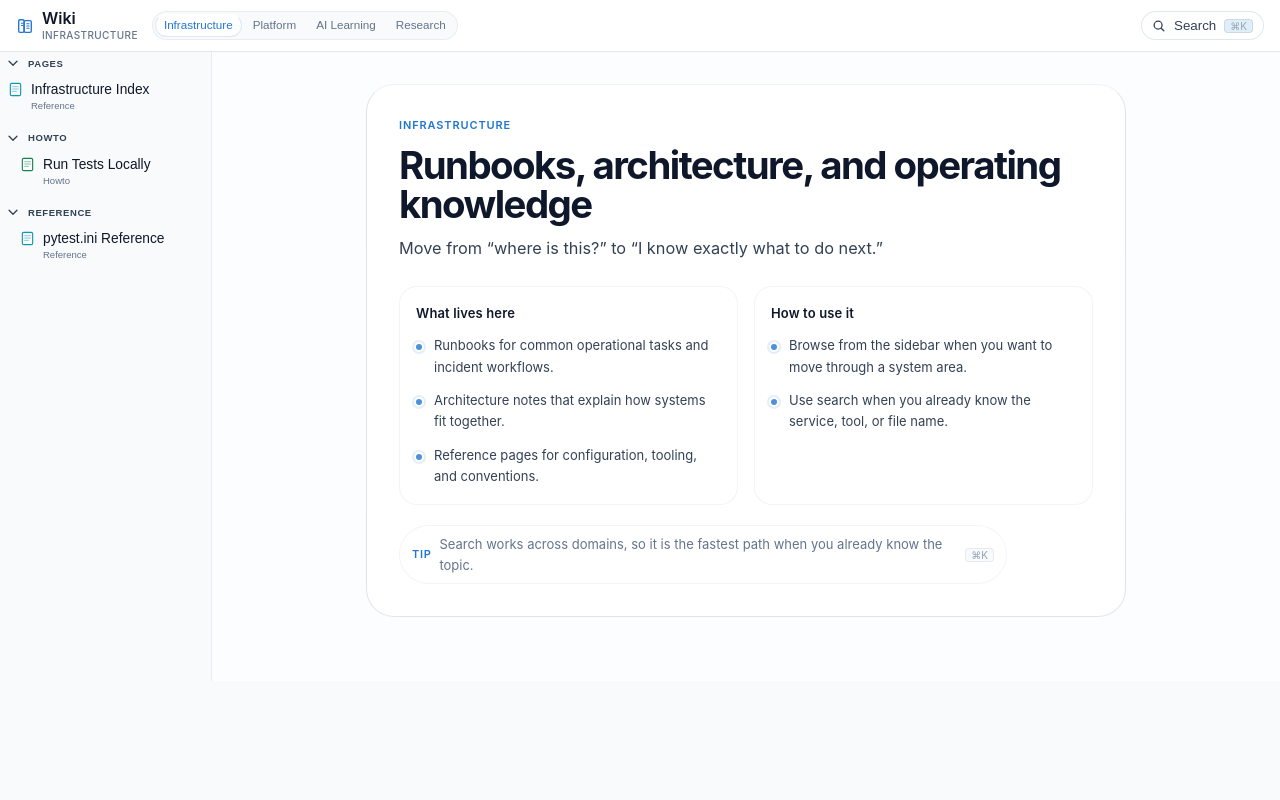
Test: WikiPage › shows explicit search scopes and filters results by the selected domain
The width and height of the screenshot is (1280, 800).
Click the button with aria-label "open wiki search" at (1202, 26), box [1141, 11, 1264, 40]
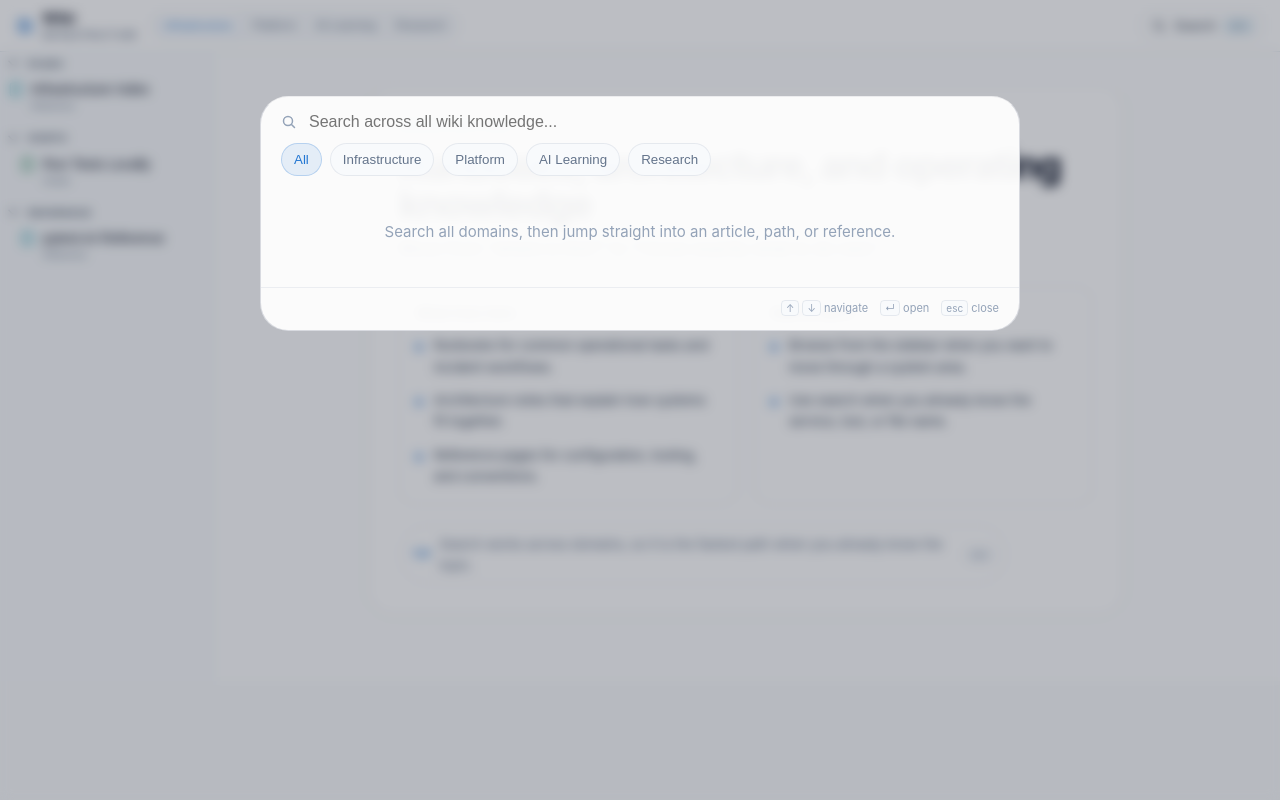
Type "attention" into the field named "search query" at (654, 122), box [309, 113, 999, 131]
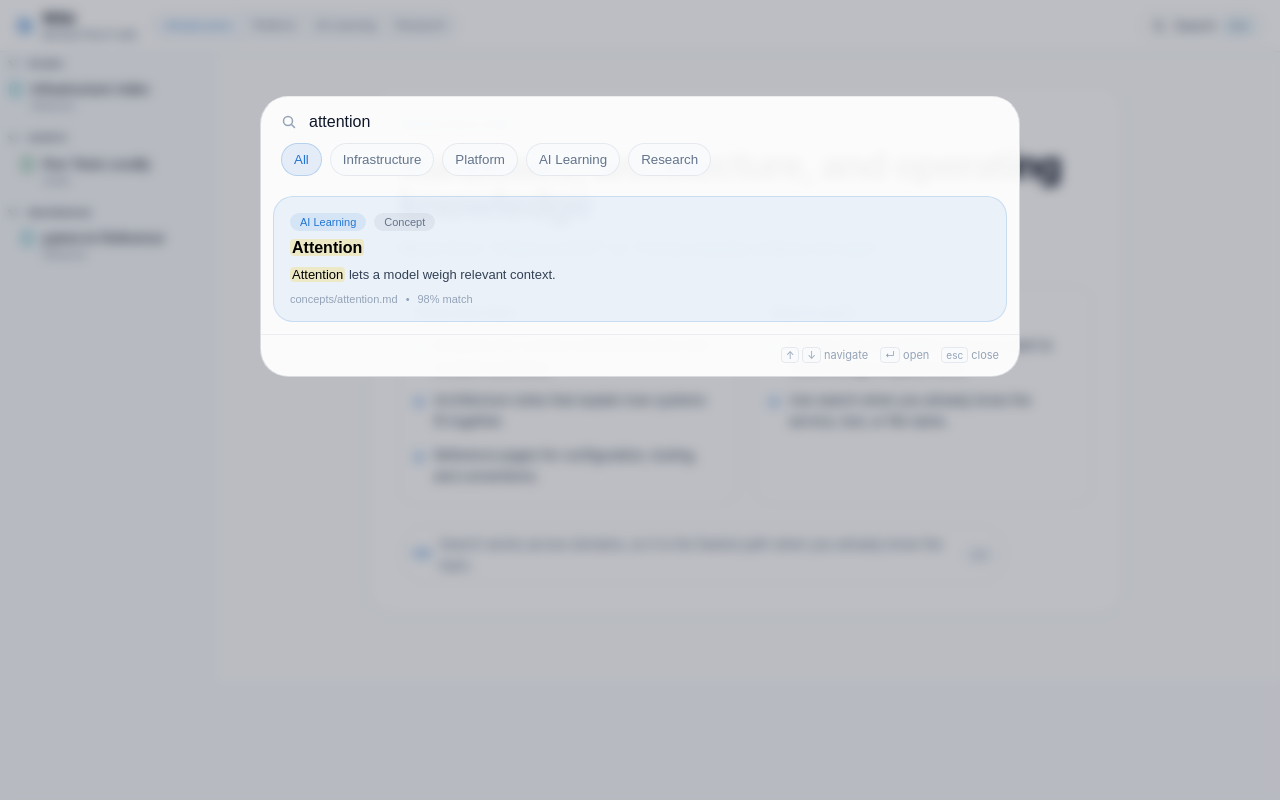
Expected: the 1st text "Attention" is shown, [290, 239, 364, 256]
Click the tab "Infrastructure" at (382, 160), box [330, 143, 434, 176]
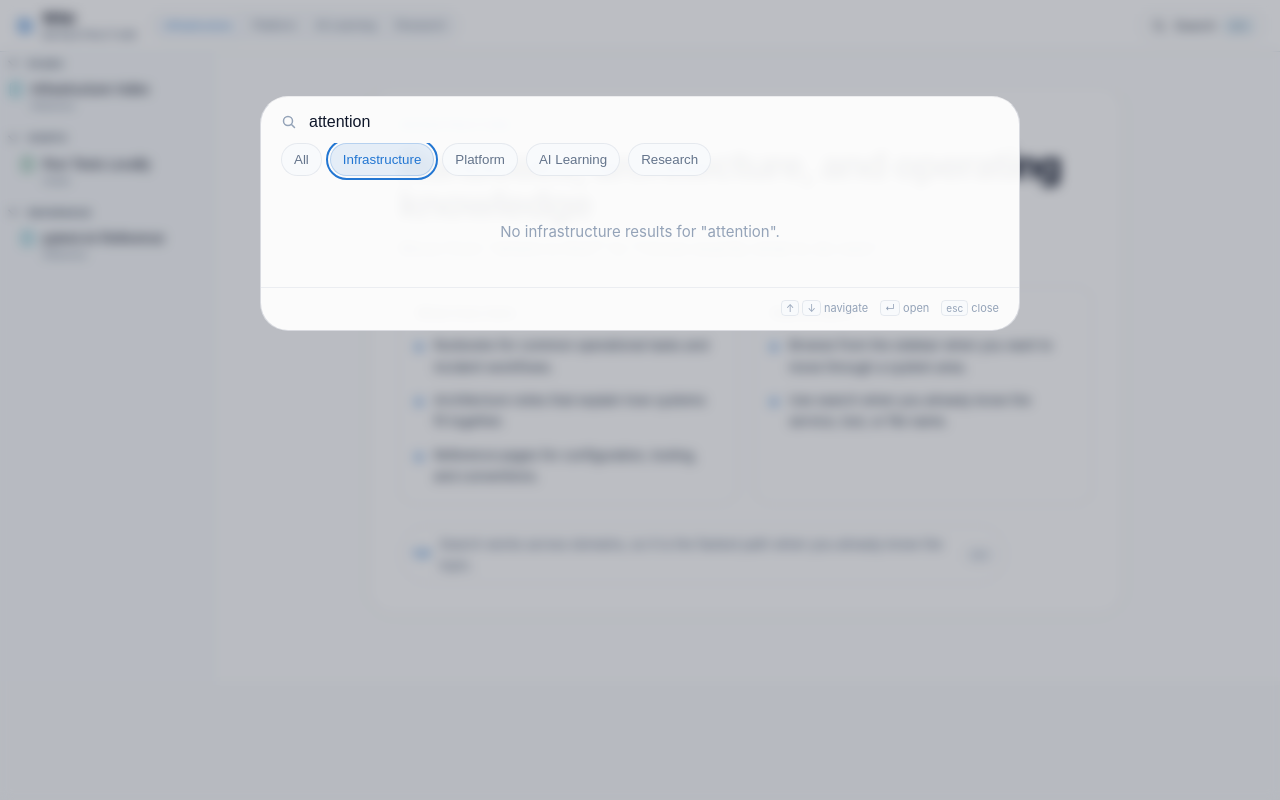
Expected: the text "No infrastructure results for \"attention\"." is shown, [500, 222, 780, 241]
